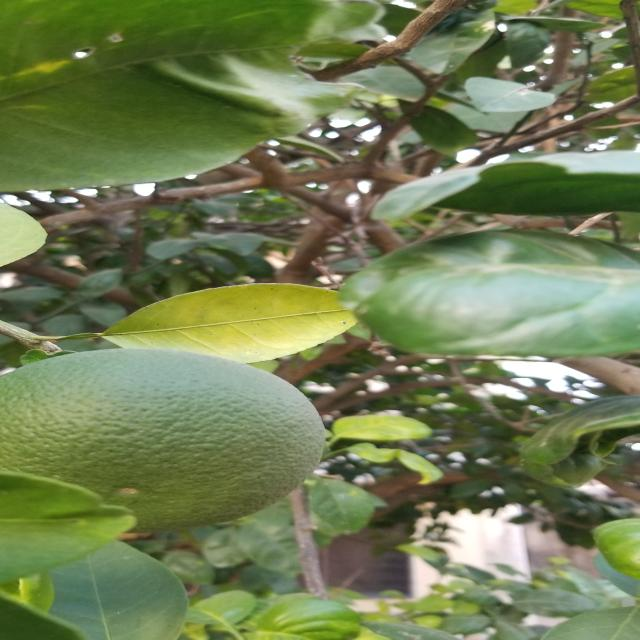Unripe: (3, 343, 330, 543)
